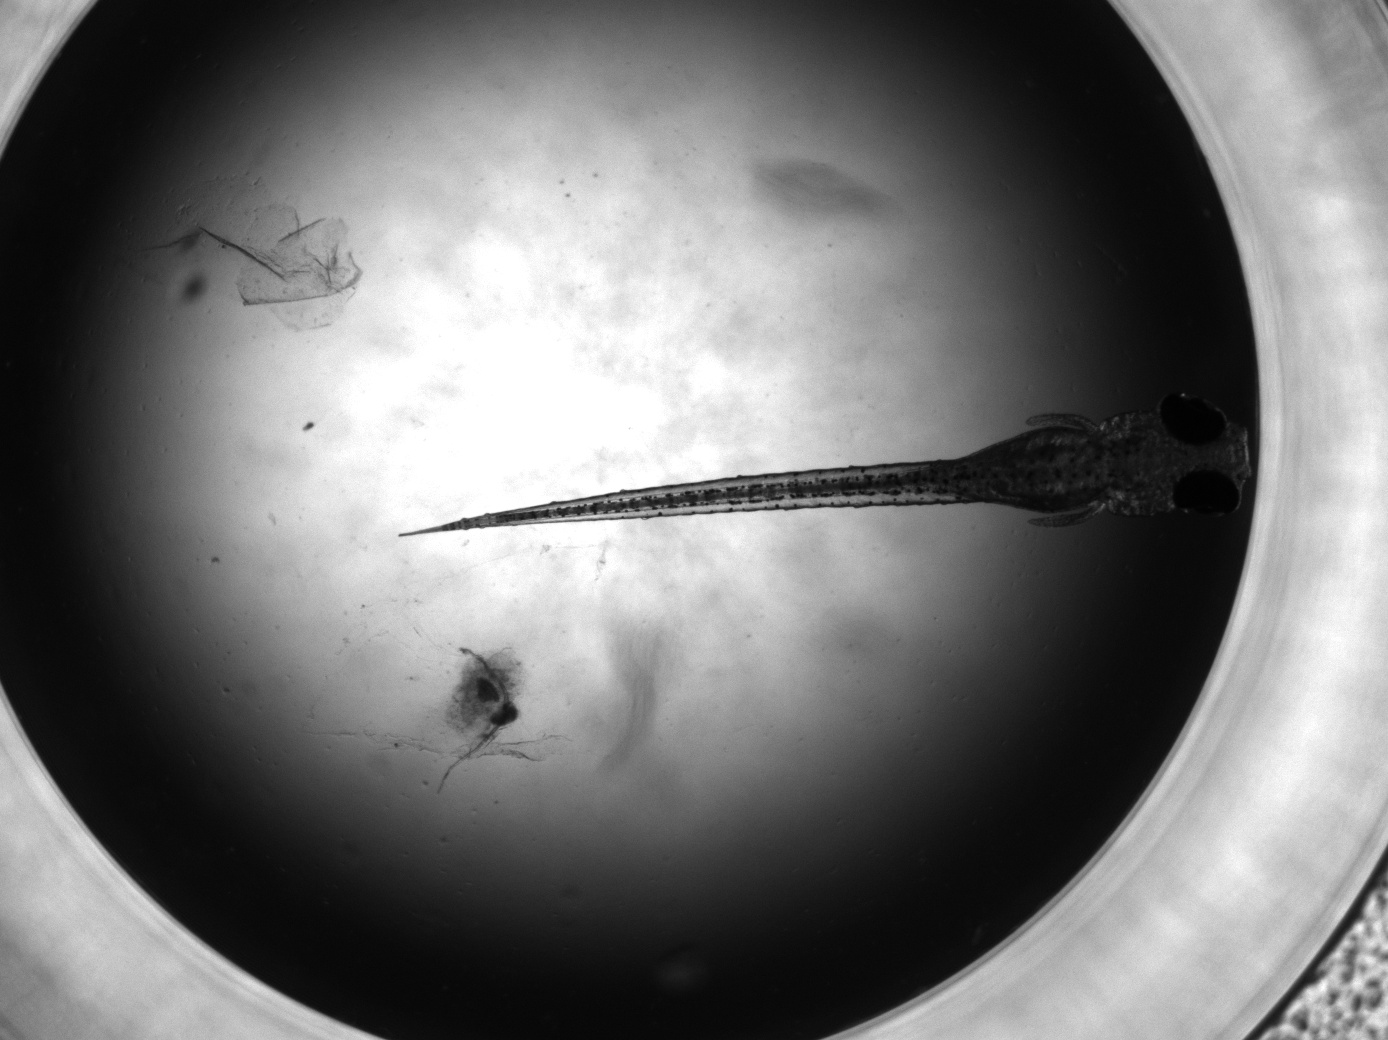debris: (144, 167, 363, 331), (434, 638, 550, 794)
embryo: (398, 393, 1253, 537)
eye: (1158, 393, 1229, 448), (1171, 468, 1242, 520)
yolksac: (958, 425, 1110, 511)
